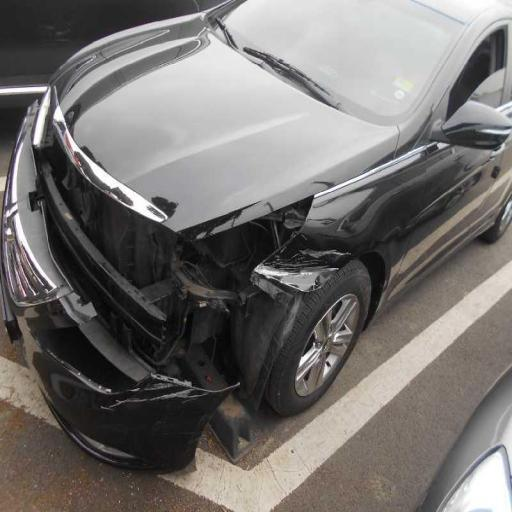broken: (42, 214, 220, 457), (130, 155, 321, 365)
